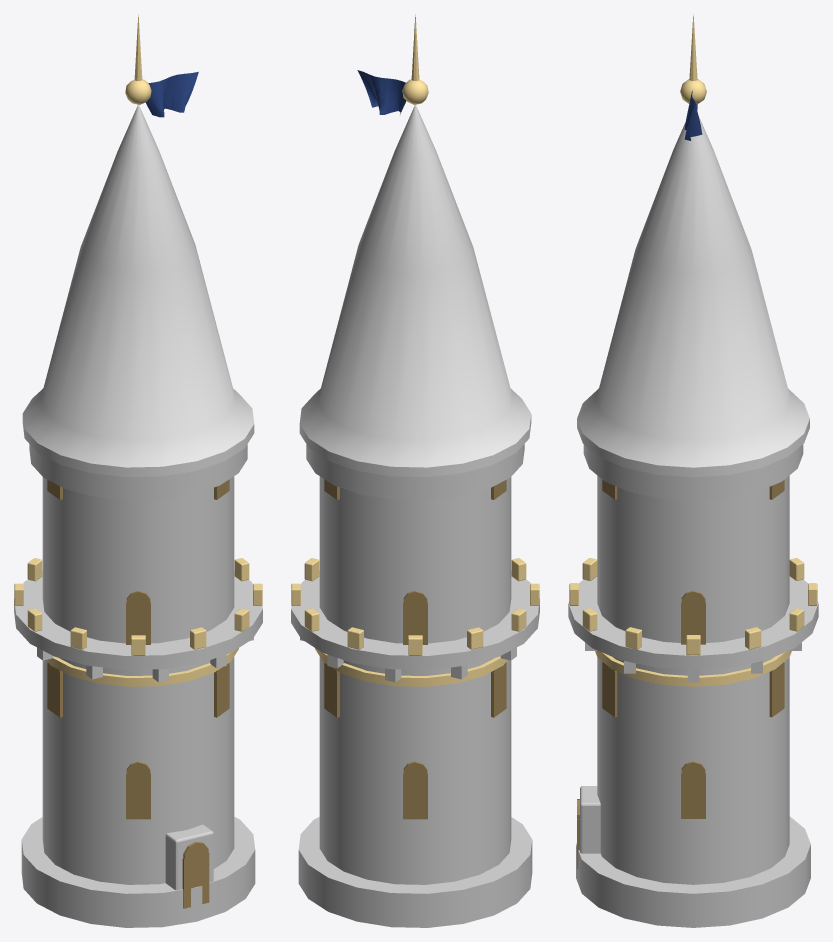
Rendered from ench_tower.fbx.
3 views of the same model, side by side, from view 1: azimuth 30°, elevation 25°; view 2: azimuth 150°, elevation 25°; view 3: azimuth 270°, elevation 25° (orthographic).
Visible parts, largest first — view 1: stone_1, slateplum_1, window_1, gold_1, azure_1; view 2: stone_1, slateplum_1, gold_1, window_1, azure_1; view 3: stone_1, slateplum_1, gold_1, window_1.
Part boxes in pixels (x1=…): stone_1: x1=14, y1=444, x2=262, y2=927; slateplum_1: x1=22, y1=104, x2=254, y2=477; window_1: x1=47, y1=479, x2=229, y2=908; gold_1: x1=14, y1=14, x2=262, y2=686; azure_1: x1=145, y1=71, x2=198, y2=117; stone_1: x1=291, y1=444, x2=539, y2=927; slateplum_1: x1=299, y1=104, x2=531, y2=477; gold_1: x1=291, y1=14, x2=539, y2=686; window_1: x1=324, y1=479, x2=506, y2=819; azure_1: x1=357, y1=70, x2=406, y2=114; stone_1: x1=568, y1=444, x2=818, y2=927; slateplum_1: x1=577, y1=116, x2=809, y2=477; gold_1: x1=569, y1=14, x2=817, y2=686; window_1: x1=577, y1=480, x2=784, y2=868.
Size of the model in its own units: 1.46 by 5.57 by 1.46.
